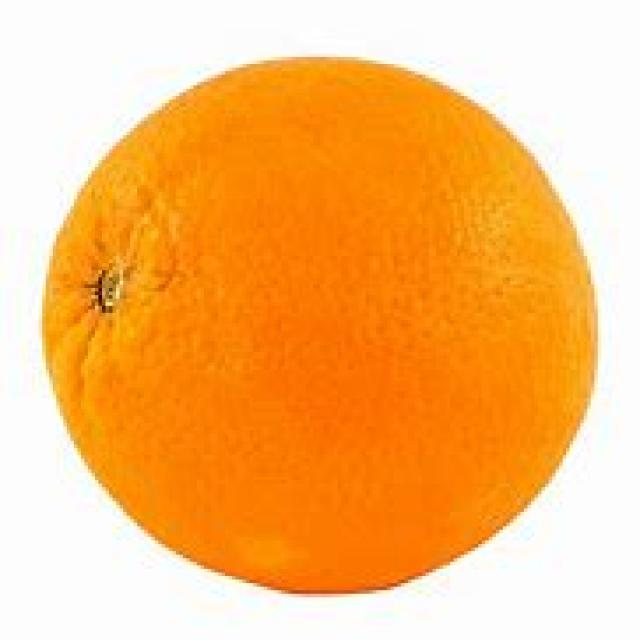orange: (41, 54, 602, 597)
